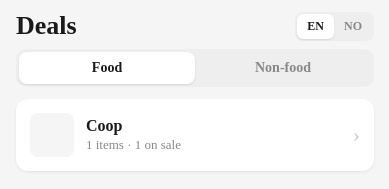
Test: StoresScreen › switches to the Non-food tab and shows only non_food items
Click the element with test id "non-food-tab-button".
click(283, 68)  # box [255,60,311,75]
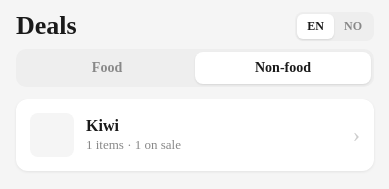
expect the text "Kiwi" is shown: met, box [86,117,119,134]
expect the text "Coop" is gone: met
